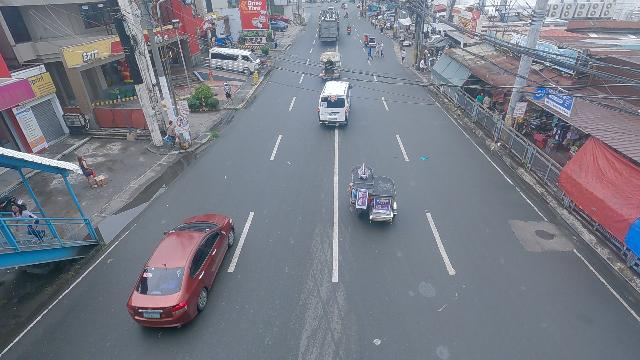car: (270, 21, 288, 32)
jeepney: (126, 213, 235, 327), (320, 51, 341, 78)
motorcycle: (348, 23, 352, 34), (344, 12, 348, 19), (347, 23, 351, 29)
truck: (318, 6, 340, 44)
van: (208, 47, 262, 76), (319, 81, 352, 125)
